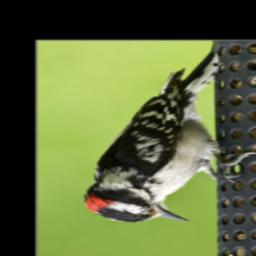Woodpecker: (84, 51, 251, 226)
